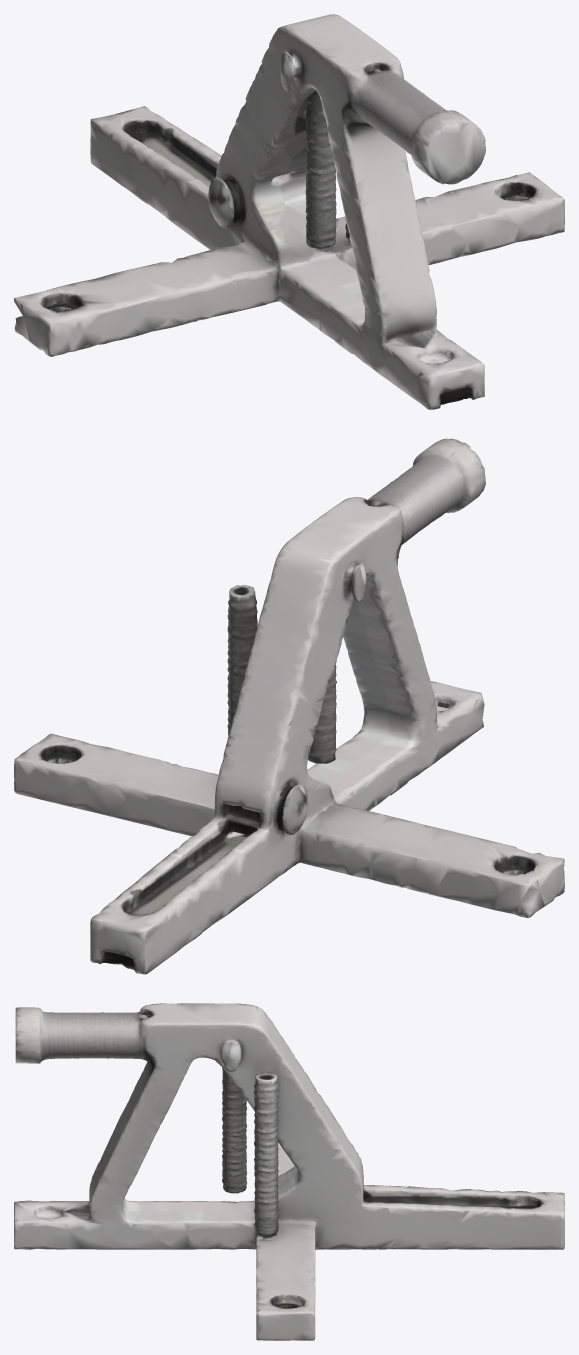
File: base_basic_pbr.glb
3 renders of one model, top to bottom at view 1: azimuth 30°, elevation 25°; view 2: azimuth 150°, elevation 25°; view 3: azimuth 270°, elevation 25°, orthographic. The views are drawn at different scales.
Parts seen in each view (by area): view 1: model; view 2: model; view 3: model.
Boxes of the visible parts, x1,y1,x2,y2 form: model: (14, 14, 564, 409); model: (14, 438, 564, 974); model: (14, 1003, 564, 1340).
Bounding box in the file's own units: 1.66 × 0.8717 × 1.9.
1 material, 1 textured.
